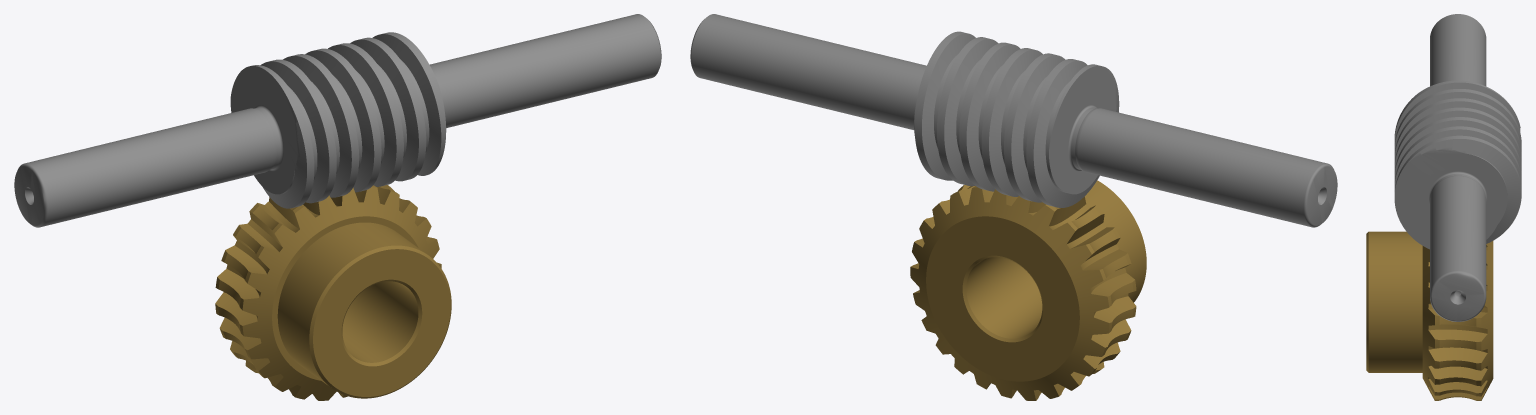
File: WormGear.fbx
3 views of the same model, side by side, from view 1: azimuth 30°, elevation 25°; view 2: azimuth 150°, elevation 25°; view 3: azimuth 270°, elevation 25° (orthographic). The views are drawn at different scales.
Visible parts, largest first — view 1: 15_tsn_27_0, 15_sr_25_1; view 2: 15_tsn_27_0, 15_sr_25_1; view 3: 15_tsn_27_0, 15_sr_25_1.
Boxes of the visible parts, x1=… form: 15_tsn_27_0: x1=14, y1=14, x2=661, y2=227; 15_sr_25_1: x1=215, y1=185, x2=451, y2=400; 15_tsn_27_0: x1=690, y1=14, x2=1337, y2=227; 15_sr_25_1: x1=910, y1=180, x2=1146, y2=400; 15_tsn_27_0: x1=1394, y1=14, x2=1521, y2=321; 15_sr_25_1: x1=1366, y1=231, x2=1493, y2=400.
Size of the model in its own units: 13000 by 6688 by 3299.
